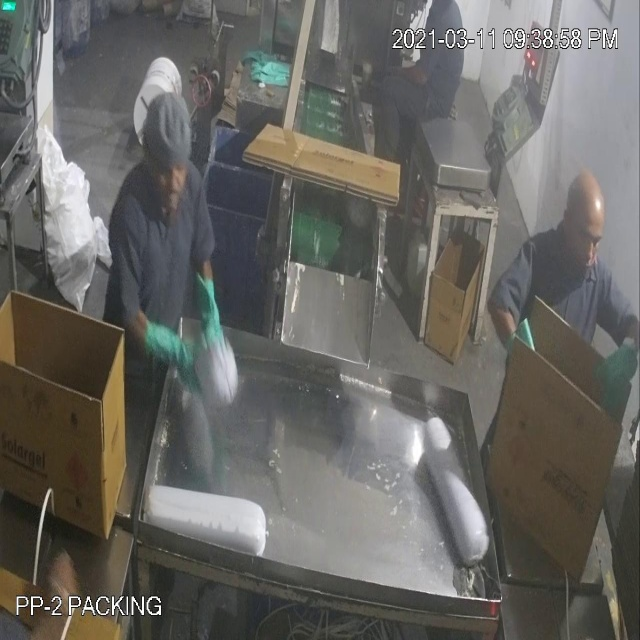Guantes: (589, 324, 640, 415)
